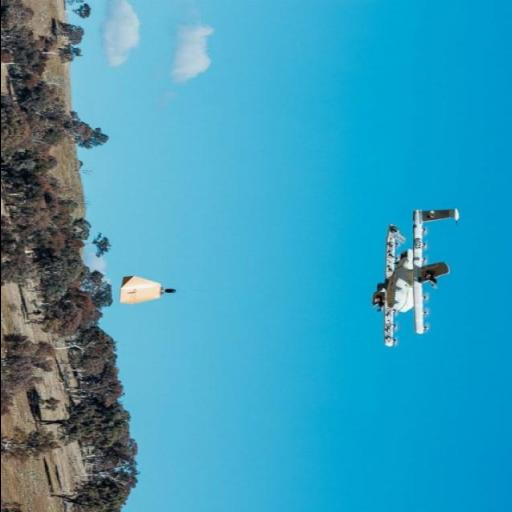uav: (350, 206, 460, 348)
